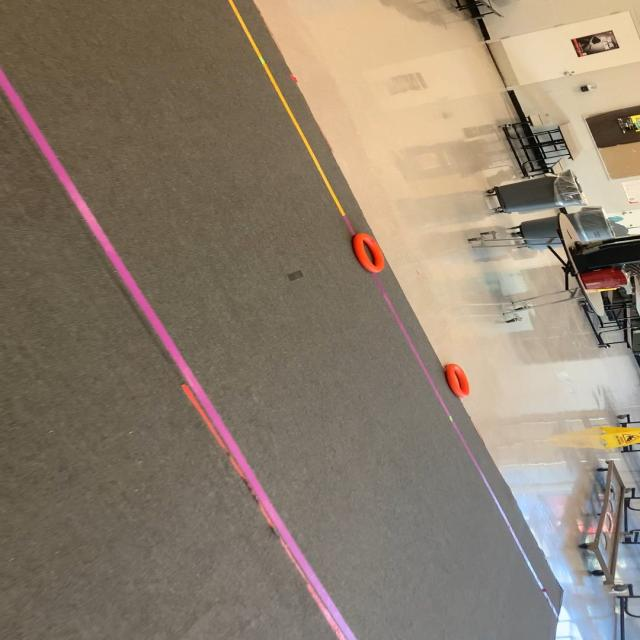notes: (353, 232, 386, 277), (445, 363, 472, 397)
